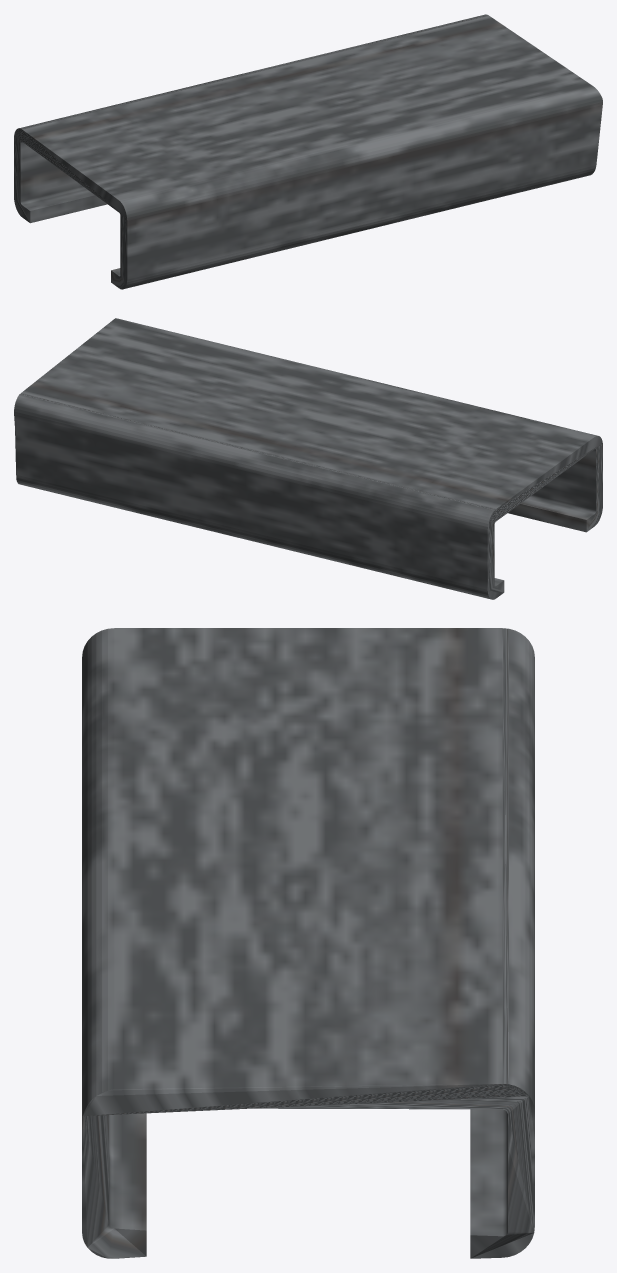
The model's file is left.glb.
3 views of the same model, one above another, from view 1: azimuth 30°, elevation 25°; view 2: azimuth 150°, elevation 25°; view 3: azimuth 270°, elevation 25° (orthographic). The views are drawn at different scales.
Visible parts, largest first — view 1: seat_rail_left; view 2: seat_rail_left; view 3: seat_rail_left.
Boxes of the visible parts, left/top/right/bottom form: seat_rail_left: left=14, top=14, right=602, bottom=289; seat_rail_left: left=14, top=318, right=602, bottom=599; seat_rail_left: left=82, top=628, right=534, bottom=1258.
Size of the model in its own units: 0.102 by 0.018 by 0.042.
1 material, 1 textured.
